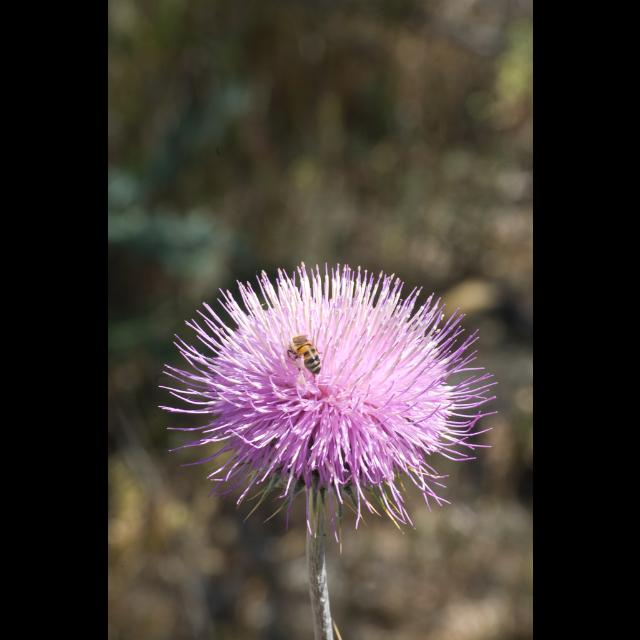Flower: (150, 270, 496, 534)
